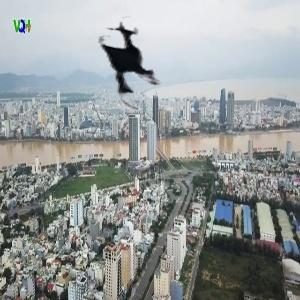drone: (78, 7, 186, 115)
